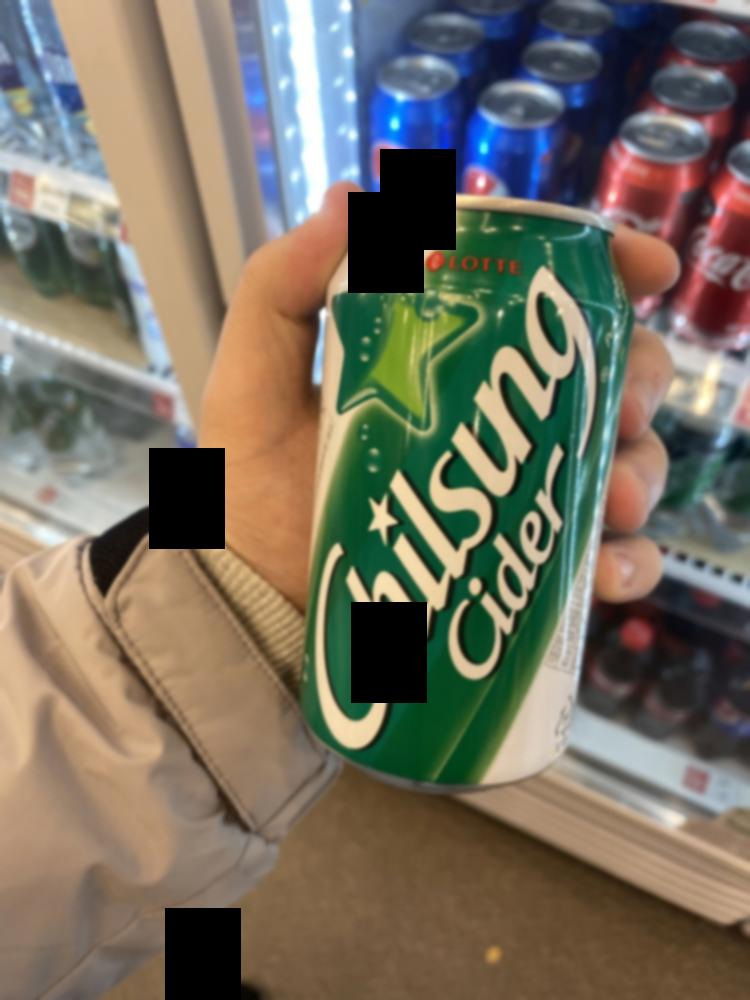chilsungcider: (288, 175, 600, 802)
